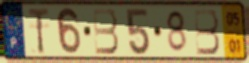5: (125, 7, 152, 57)
6: (55, 6, 82, 57)
8: (165, 9, 188, 54)
B: (91, 7, 121, 56), (192, 8, 222, 57)
T: (27, 6, 51, 56)
